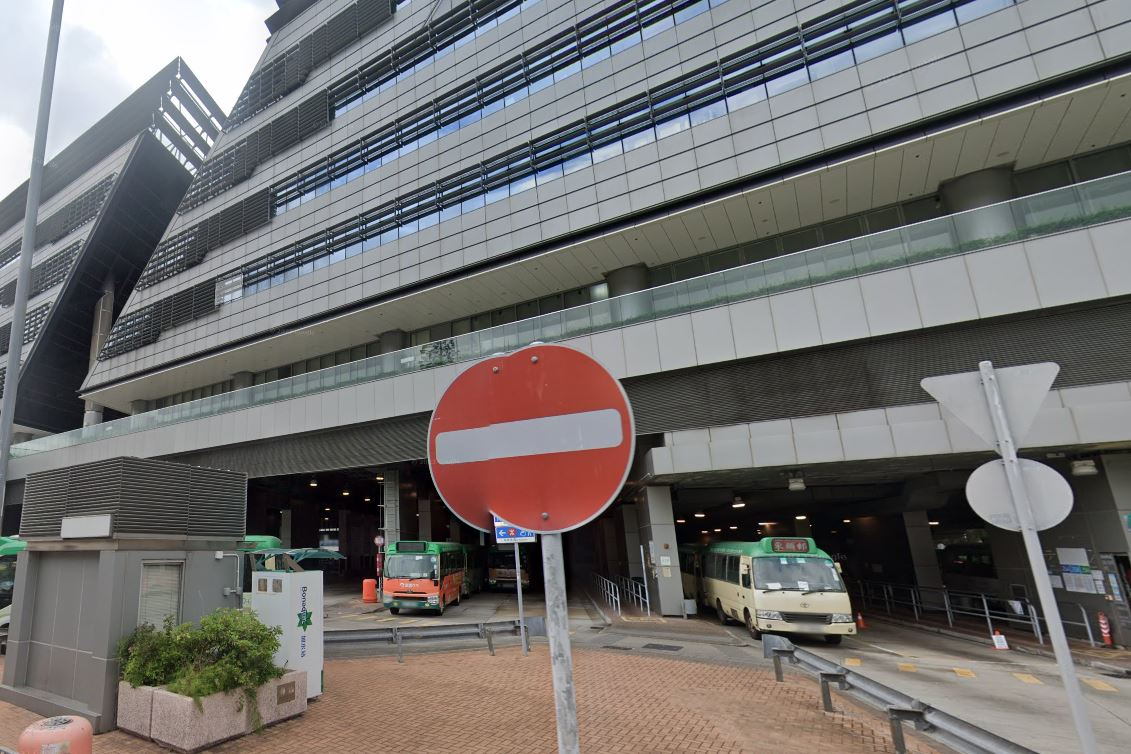No Enter: (426, 344, 642, 542)
